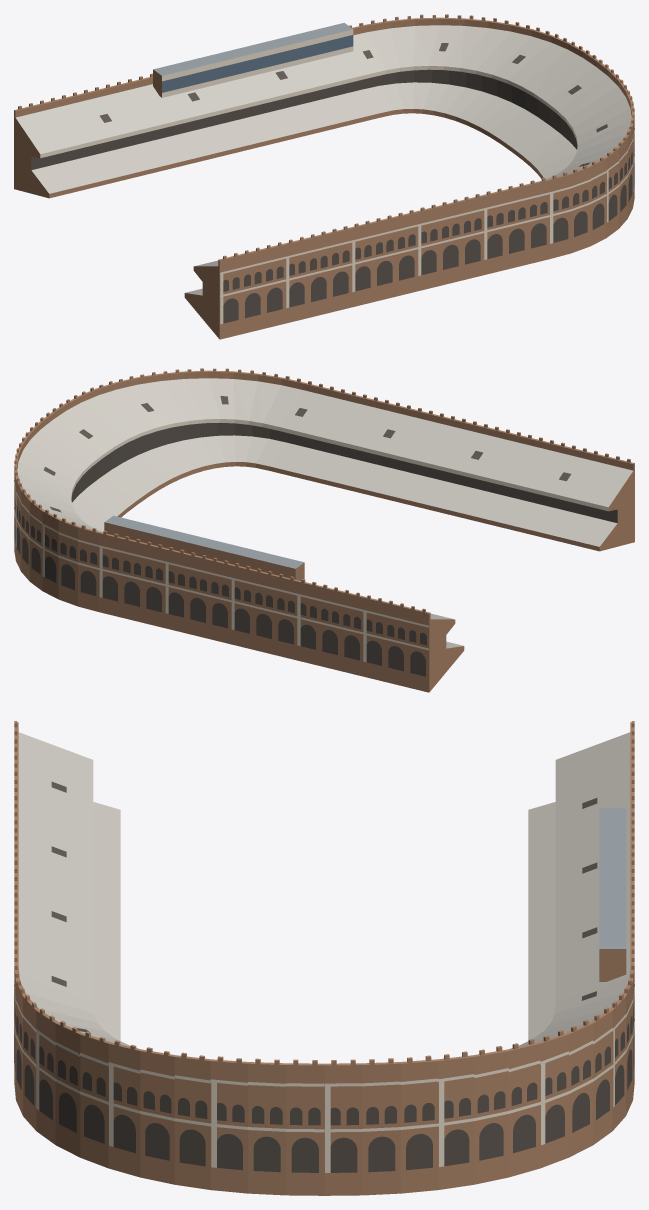
File: phl-franklin-field.glb
3 renders of one model, top to bottom at view 1: azimuth 30°, elevation 25°; view 2: azimuth 150°, elevation 25°; view 3: azimuth 270°, elevation 25°, orthographic. The views are drawn at different scales.
Visible parts, largest first — view 1: Franklin Field; view 2: Franklin Field; view 3: Franklin Field.
Boxes of the visible parts, box(x1,y1,x2,y2) form: Franklin Field: box(14, 14, 634, 339); Franklin Field: box(14, 368, 634, 692); Franklin Field: box(14, 721, 634, 1195).
Bounding box in the file's own units: 202 × 35.7 × 149.
